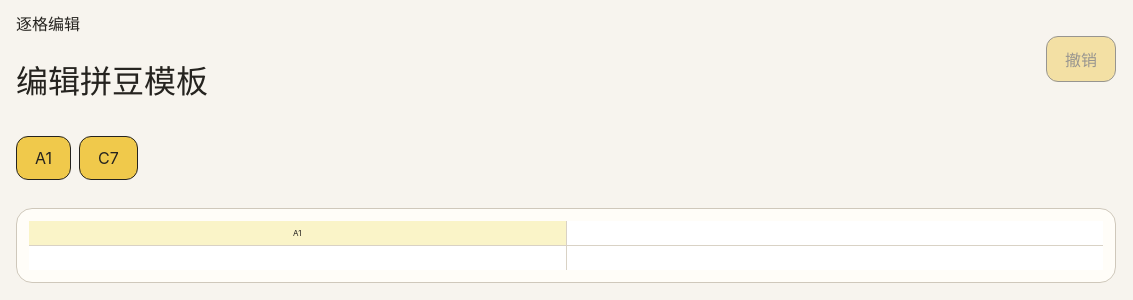
Test: paints one cell and restores it with undo
Click the button named "选择色号C7" at x=108, y=158, box 79,136 -> 138,180
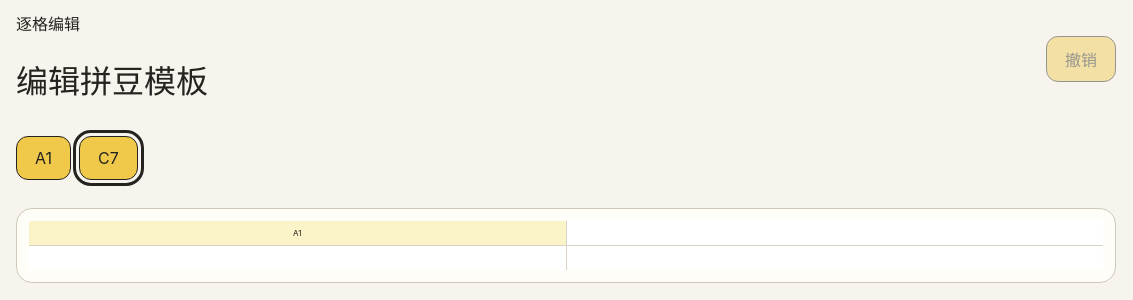
Click the cell named "第1行第2列 空白" at x=835, y=233, box 566,221 -> 1103,245
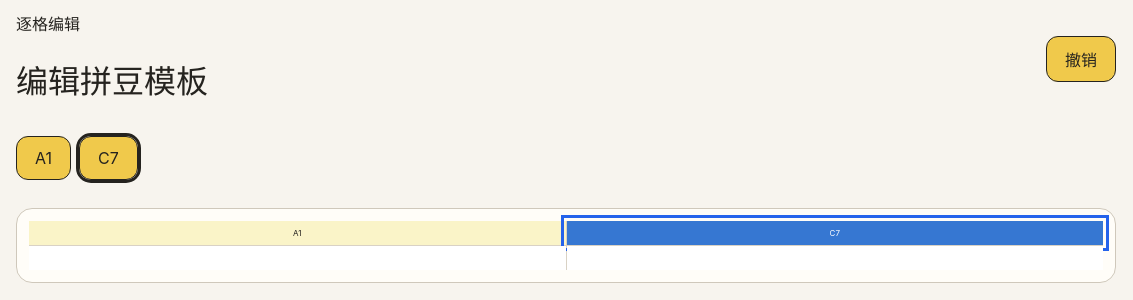
Expected: the cell named "第1行第2列 C7" has attribute data-color="C7", 566,221 -> 1103,245
Click the button "撤销" at x=1081, y=59, box 1046,36 -> 1116,82
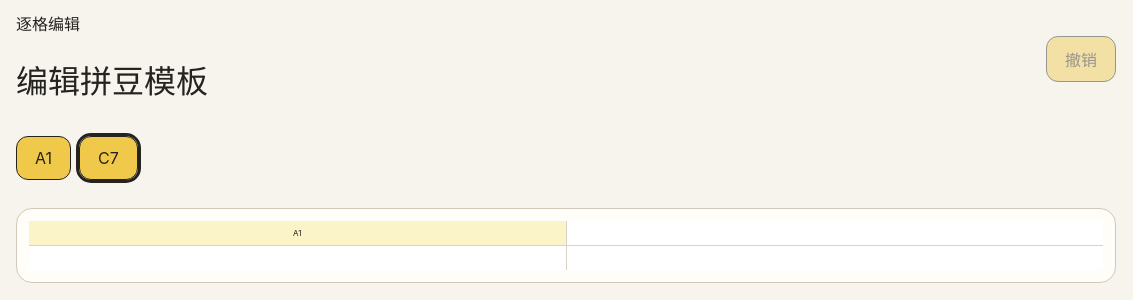
Expected: the cell named "第1行第2列 空白" is shown, 566,221 -> 1103,245
